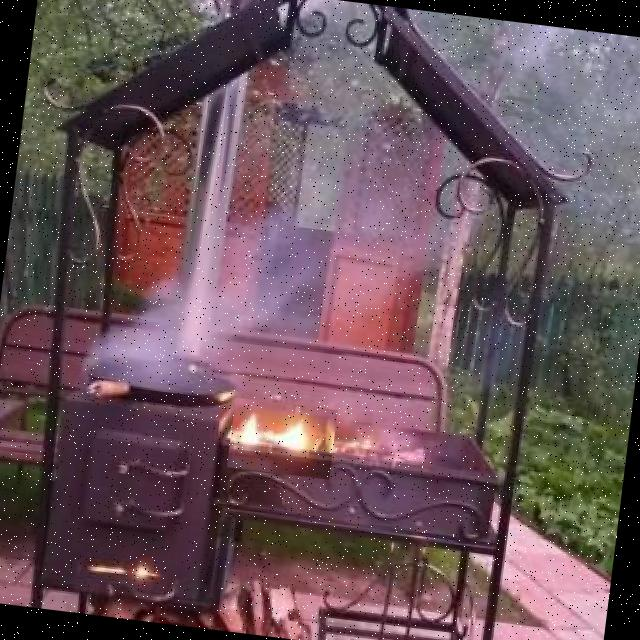fire: (226, 397, 338, 479)
